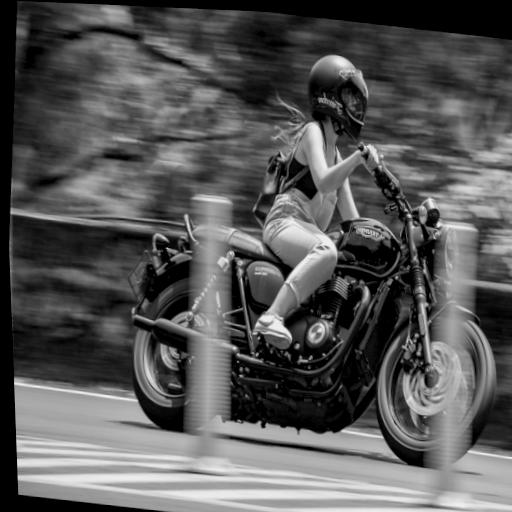Helmet: (304, 50, 372, 141)
